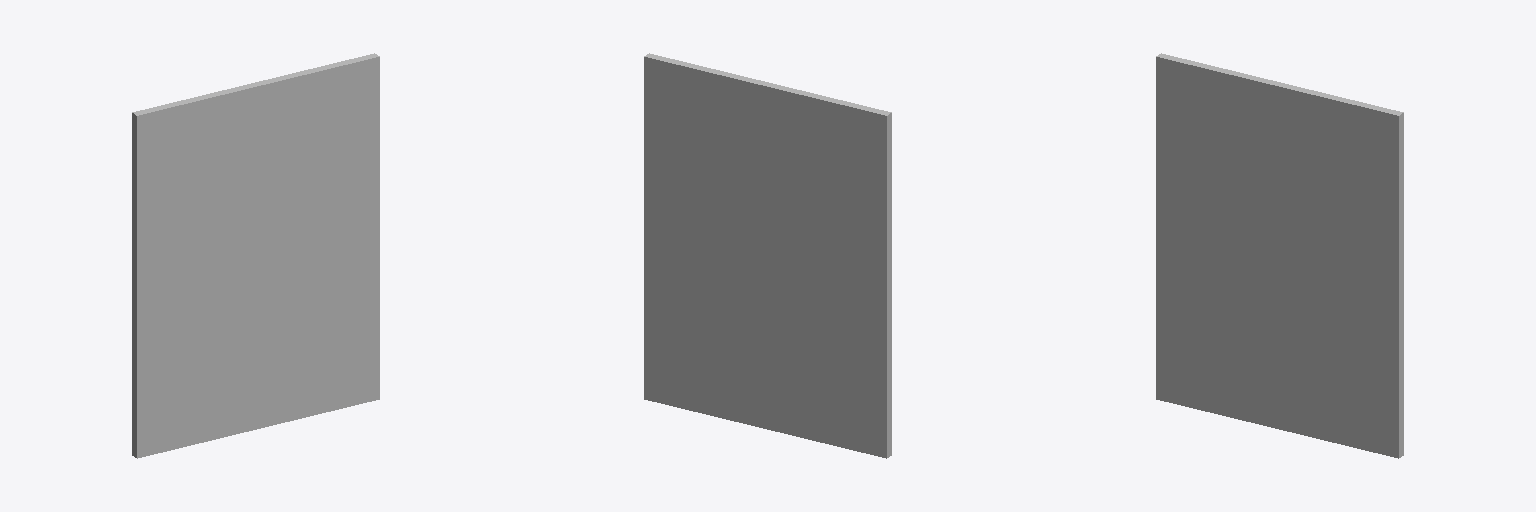
The model's file is puerta3.obj.
3 views of the same model, side by side, from view 1: azimuth 30°, elevation 25°; view 2: azimuth 150°, elevation 25°; view 3: azimuth 330°, elevation 25° (orthographic).
Parts seen in each view (by area): view 1: polySurface6599 puertaUno:pasted__pasted__FachadaFinal_pCube8; view 2: polySurface6599 puertaUno:pasted__pasted__FachadaFinal_pCube8; view 3: polySurface6599 puertaUno:pasted__pasted__FachadaFinal_pCube8.
Boxes of the visible parts, box(x1,y1,x2,y2) form: polySurface6599 puertaUno:pasted__pasted__FachadaFinal_pCube8: box(132, 53, 379, 458); polySurface6599 puertaUno:pasted__pasted__FachadaFinal_pCube8: box(644, 53, 891, 458); polySurface6599 puertaUno:pasted__pasted__FachadaFinal_pCube8: box(1156, 53, 1403, 458).
Bounding box in the file's own units: 2.42 × 3.26 × 0.08.